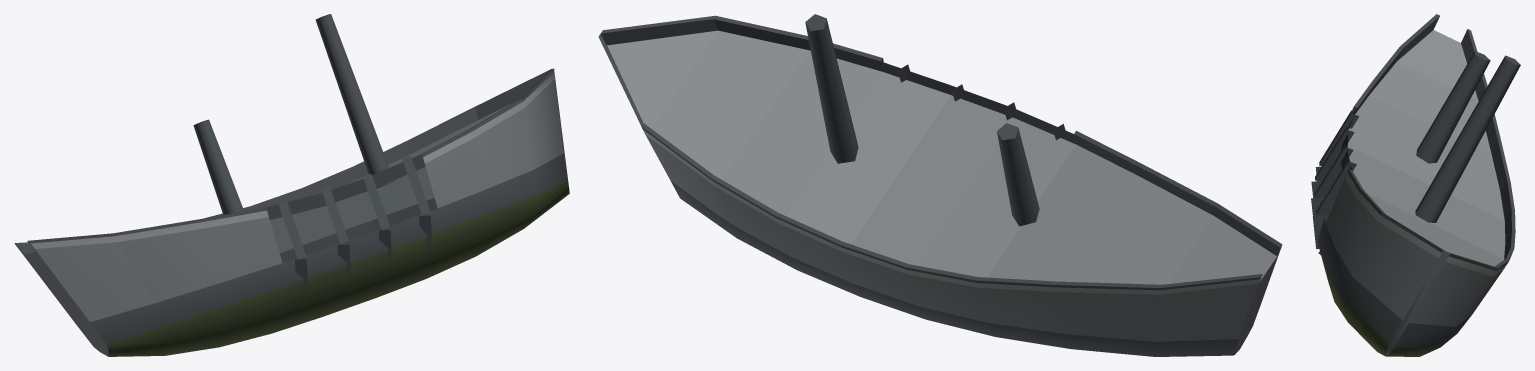
File: wreck_a.glb
3 renders of one model, left to right at view 1: azimuth 30°, elevation 25°; view 2: azimuth 150°, elevation 25°; view 3: azimuth 270°, elevation 25°, orthographic. The views are drawn at different scales.
Parts seen in each view (by area): view 1: hull; view 2: hull; view 3: hull.
Part boxes in pixels (x1=…): hull: x1=14, y1=14, x2=569, y2=356; hull: x1=598, y1=14, x2=1282, y2=356; hull: x1=1311, y1=14, x2=1520, y2=356.
Size of the model in its own units: 14.97 by 6.74 by 4.73.
